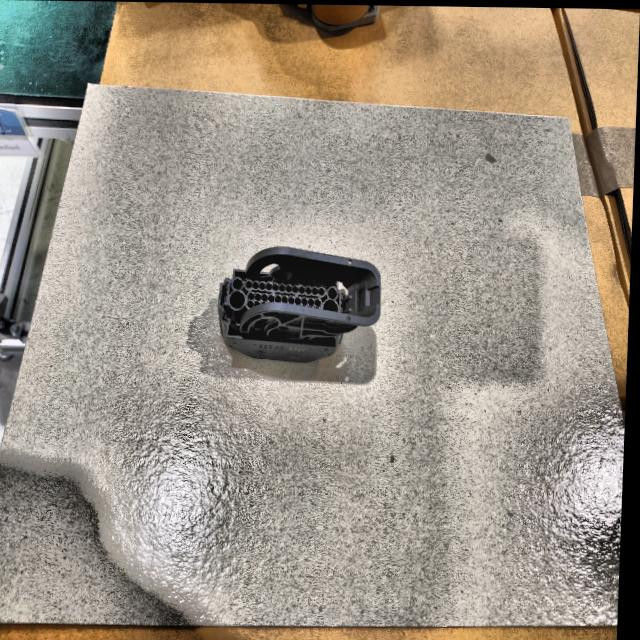P38: (220, 246, 383, 361)
